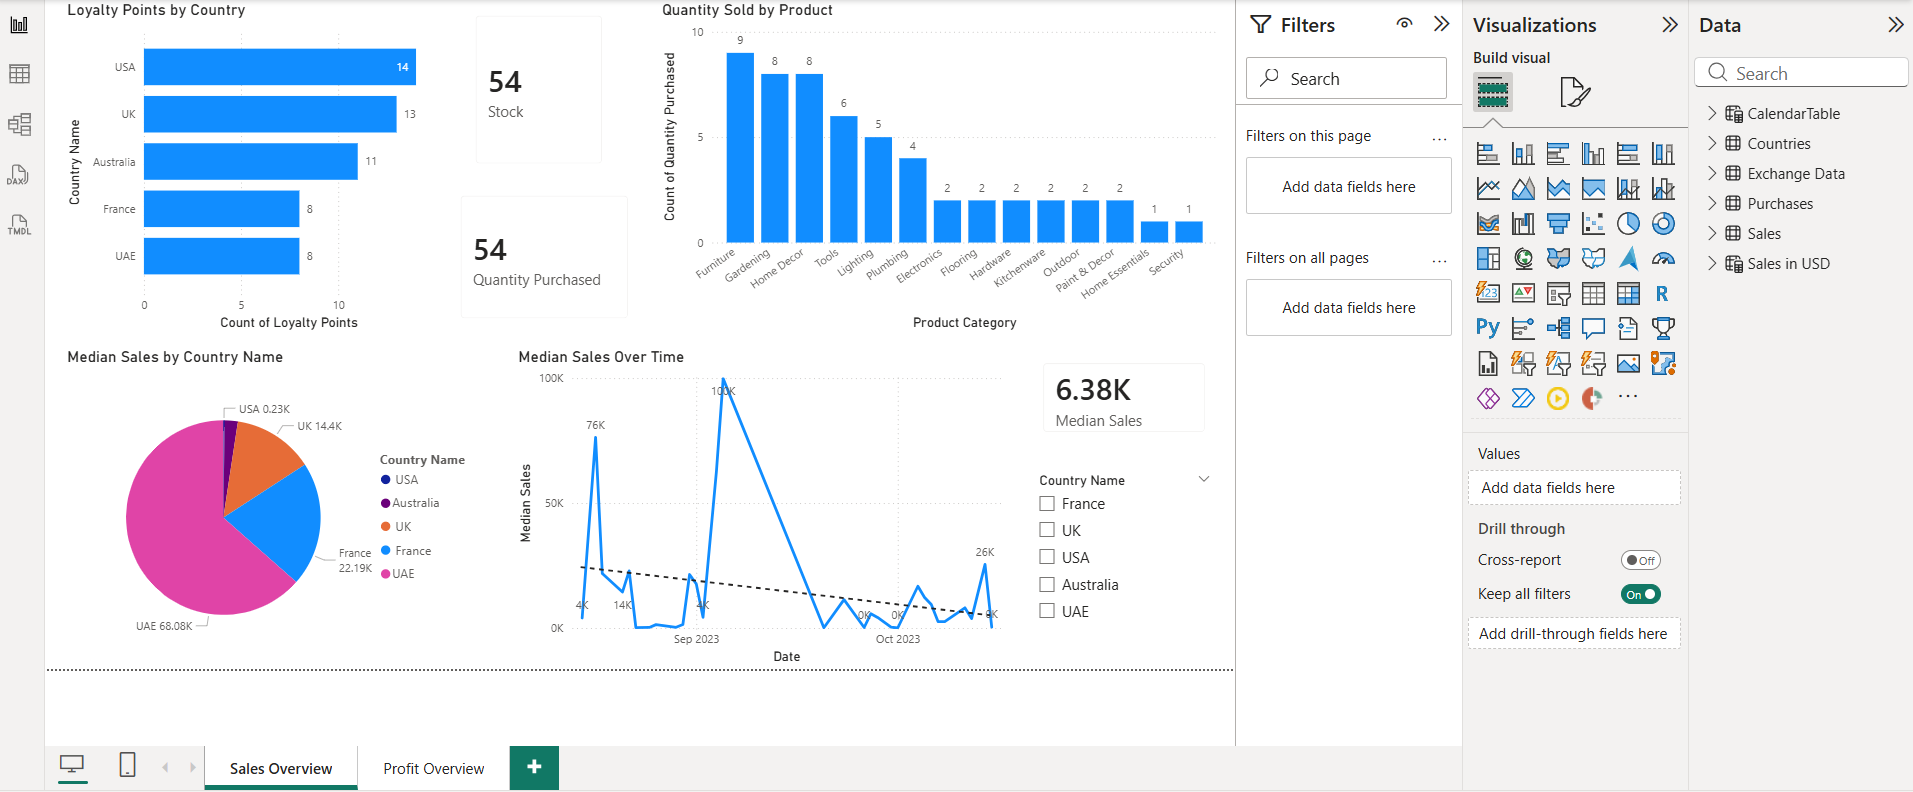

What the dashboard file says about the page in this screenshot:
{"tool":"powerbi","page":{"name":"Sales Overview","canvas":[1280,720],"ordinal":0},"visuals":[{"type":"clusteredBarChart","title":"Loyalty Points by Country","fields":{"Category":["Sales in USD.Country Name"],"Y":["CountNonNull(Sales in USD. Loyalty Points)"]},"box":[18.4,0,412.2,359.9],"z":0},{"type":"clusteredColumnChart","title":"Quantity Sold by Product","fields":{"Category":["Sales in USD.Product Category"],"Y":["CountNonNull(Sales in USD.Quantity Purchased)"]},"box":[659.2,0,607,359.9],"z":1000},{"type":"pieChart","fields":{"Category":["Sales in USD.Country Name"],"Y":["Sales in USD.Median Sales"]},"box":[18.4,374.1,454.5,347.2],"z":2000},{"type":"lineChart","title":"Median Sales Over Time","fields":{"Y":["Sales in USD.Median Sales"],"Category":["CalendarTable.Date"]},"box":[503.9,374.1,543.5,345.8],"z":3000},{"type":"cardVisual","title":"Stock","fields":{"Data":["CountNonNull(Sales in USD. Stock  )"]},"box":[446.1,0,170.8,193.4],"z":4000},{"type":"cardVisual","title":", Quantity Purchased, and Median Sales","fields":{"Data":["CountNonNull(Sales in USD.Quantity Purchased)"]},"box":[430,193.3,214.3,166.7],"z":5000},{"type":"cardVisual","fields":{"Data":["Sales in USD.Median Sales"]},"box":[1057.3,374.1,208.9,108.7],"z":6000},{"type":"slicer","fields":{"Values":["Sales in USD.Country Name"]},"box":[1057.3,502.5,208.9,200.4],"z":7000}]}

Visuals, with their boxes on the page's 1280x720 design canvas (x1, y1, x2, y2). These are canvas units, not pixel positions in the 1913x792 screenshot, which may show the page scaled, cropped or inside an application window:
"Loyalty Points by Country" clusteredBarChart: 18,0,431,360
"Quantity Sold by Product" clusteredColumnChart: 659,0,1266,360
pieChart - Sales in USD.Country Name x Sales in USD.Median Sales: 18,374,473,721
"Median Sales Over Time" lineChart: 504,374,1047,720
"Stock" cardVisual: 446,0,617,193
", Quantity Purchased, and Median Sales" cardVisual: 430,193,644,360
cardVisual - Sales in USD.Median Sales: 1057,374,1266,483
slicer - Sales in USD.Country Name: 1057,502,1266,703
